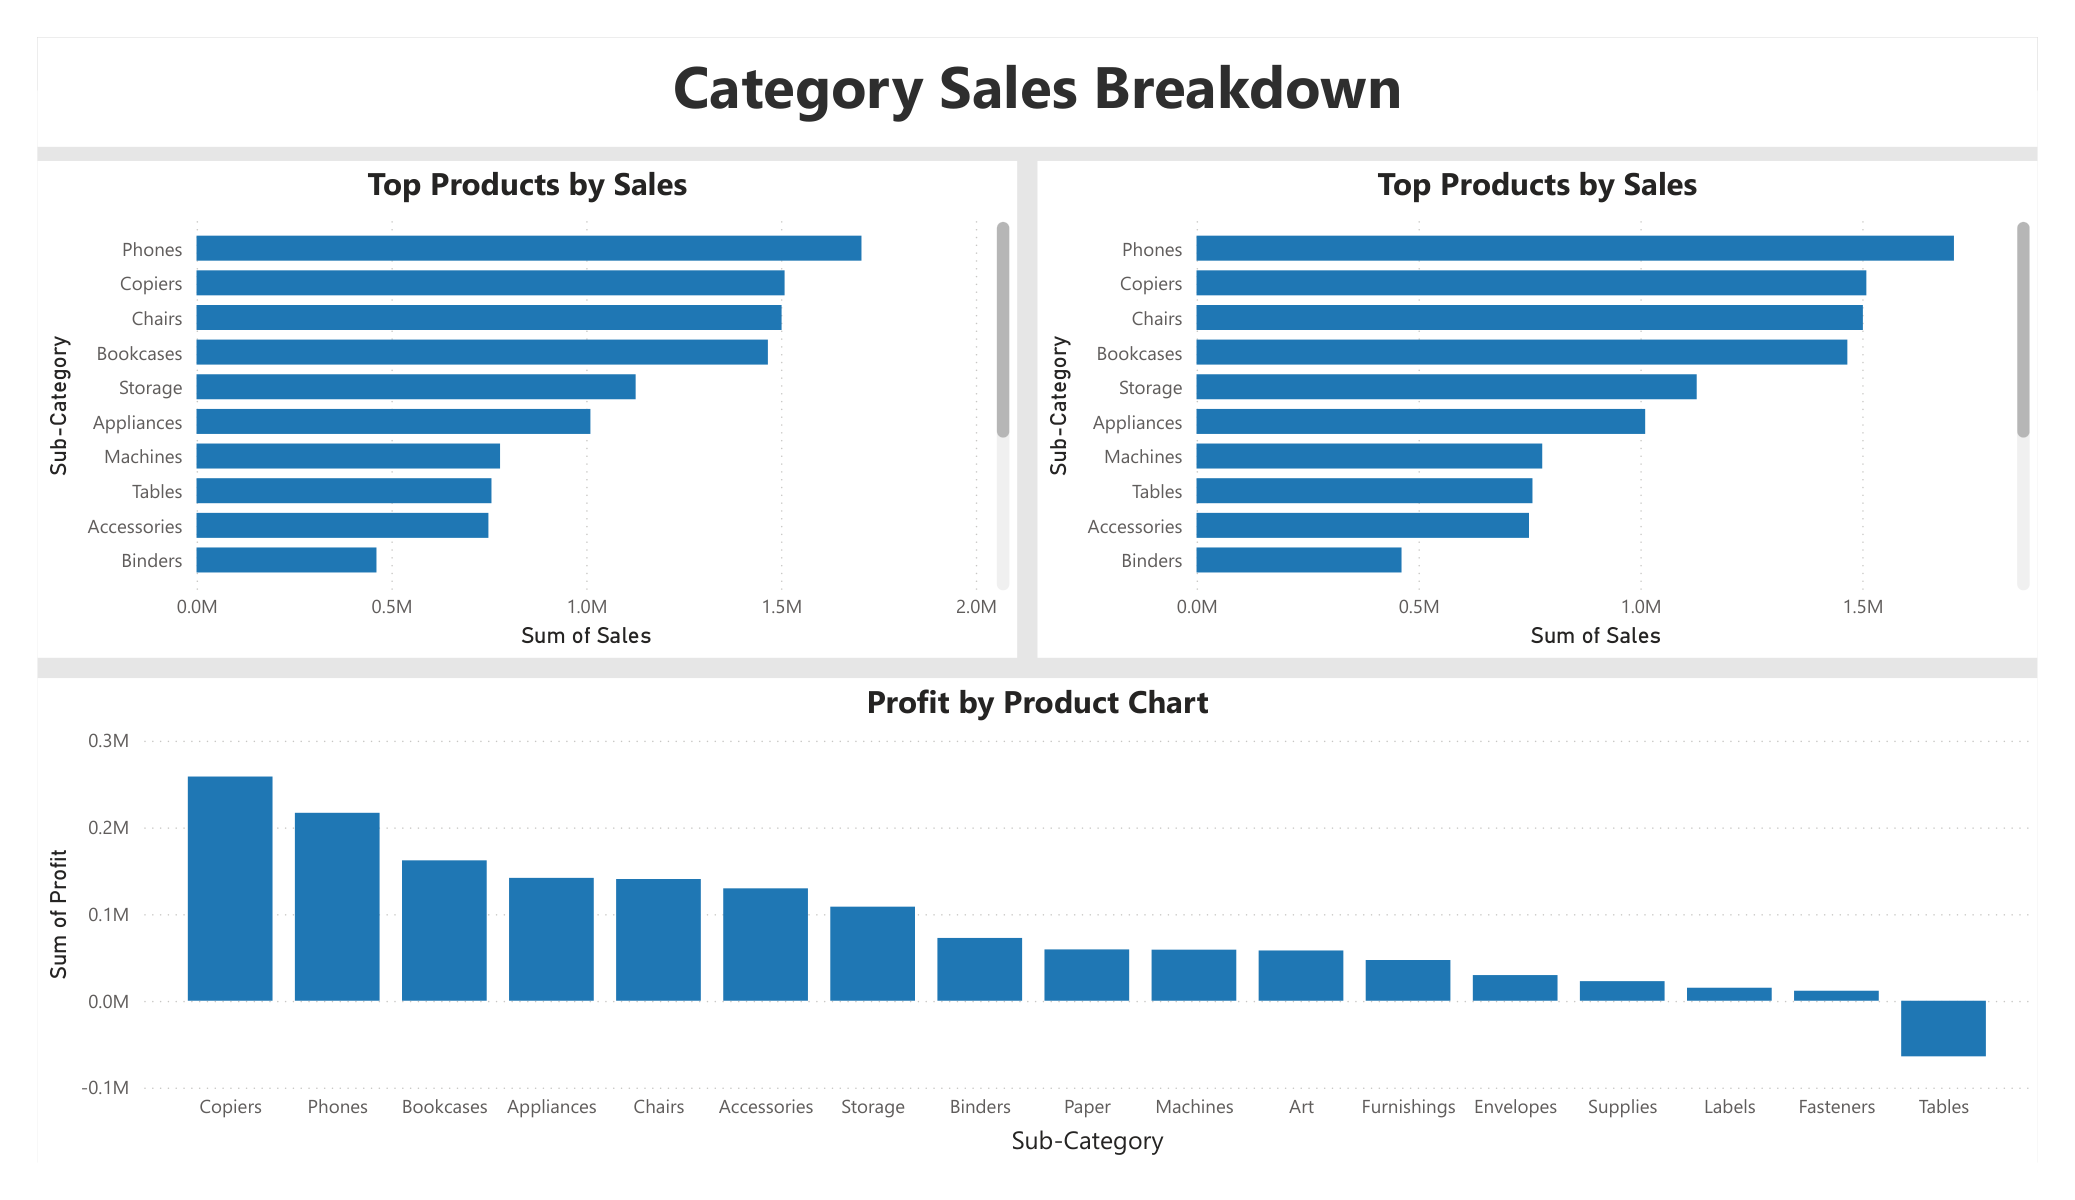

The page's visual inventory and layout, read from the dashboard file:
{"tool":"powerbi","page":{"name":"Tooltip Sales","canvas":[1280,720],"ordinal":5},"visuals":[{"type":"clusteredBarChart","title":"Top Products by Sales","fields":{"Category":["Global_Superstore2.Sub-Category"],"Y":["Sum(Global_Superstore2.Sales)"]},"box":[0,79.3,627.5,317.2],"z":0},{"type":"clusteredColumnChart","title":"Profit by Product Chart","fields":{"Category":["Global_Superstore2.Sub-Category"],"Y":["Sum(Global_Superstore2.Profit)"]},"box":[0,410.4,1280,310.3],"z":1},{"type":"clusteredBarChart","title":"Top Products by Sales","fields":{"Category":["Global_Superstore2.Sub-Category"],"Y":["Sum(Global_Superstore2.Sales)"]},"box":[640,79.3,640,317.2],"z":3},{"type":"textbox","box":[0,0,1280,69.6],"z":4}]}

Visuals, with their boxes on the page's 1280x720 design canvas (x1, y1, x2, y2). These are canvas units, not pixel positions in the 2075x1200 screenshot, which may show the page scaled, cropped or inside an application window:
"Top Products by Sales" clusteredBarChart: x1=0, y1=79, x2=628, y2=396
"Profit by Product Chart" clusteredColumnChart: x1=0, y1=410, x2=1280, y2=721
"Top Products by Sales" clusteredBarChart: x1=640, y1=79, x2=1280, y2=396
textbox: x1=0, y1=0, x2=1280, y2=70
